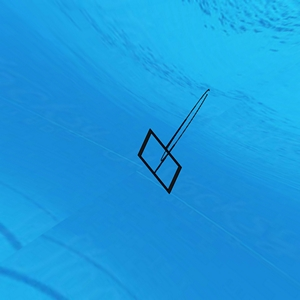circle: (136, 81, 215, 198)
